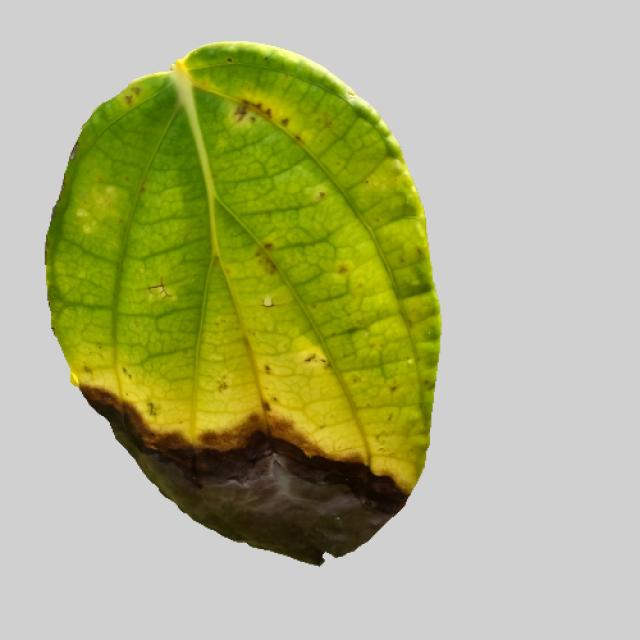leaf-blight: (36, 56, 442, 567)
